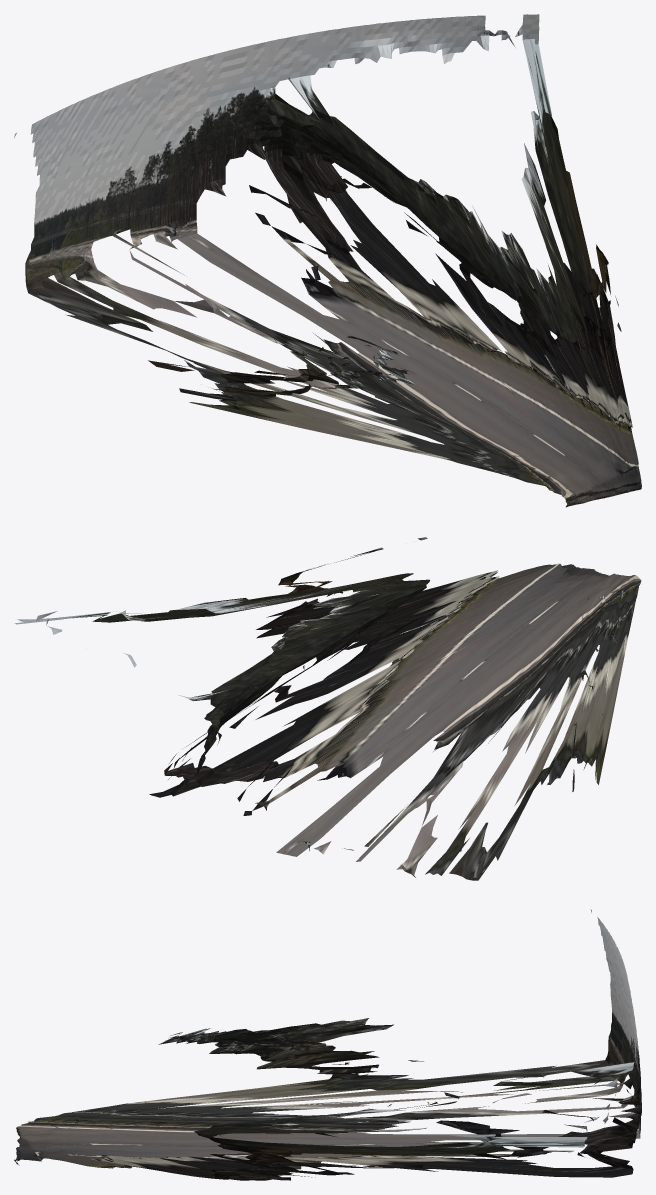
3 views of the same model, one above another, from view 1: azimuth 30°, elevation 25°; view 2: azimuth 150°, elevation 25°; view 3: azimuth 270°, elevation 25° (orthographic). The views are drawn at different scales.
Parts seen in each view (by area): view 1: defaultobject; view 2: defaultobject; view 3: defaultobject.
Boxes of the visible parts, box(x1,y1,x2,y2) form: defaultobject: box(14, 14, 641, 507); defaultobject: box(14, 537, 641, 880); defaultobject: box(14, 909, 641, 1180).
Size of the model in its own units: 35.14 by 12.38 by 44.33.
Materials: 1 (1 with a texture image).
